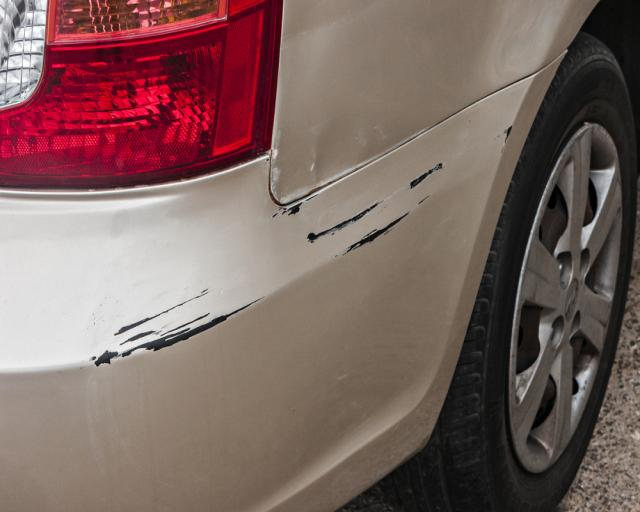scratch: (265, 123, 516, 262), (91, 283, 268, 370)
